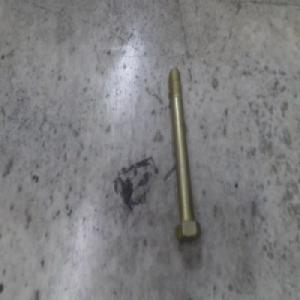Bolt: (170, 72, 205, 247)
